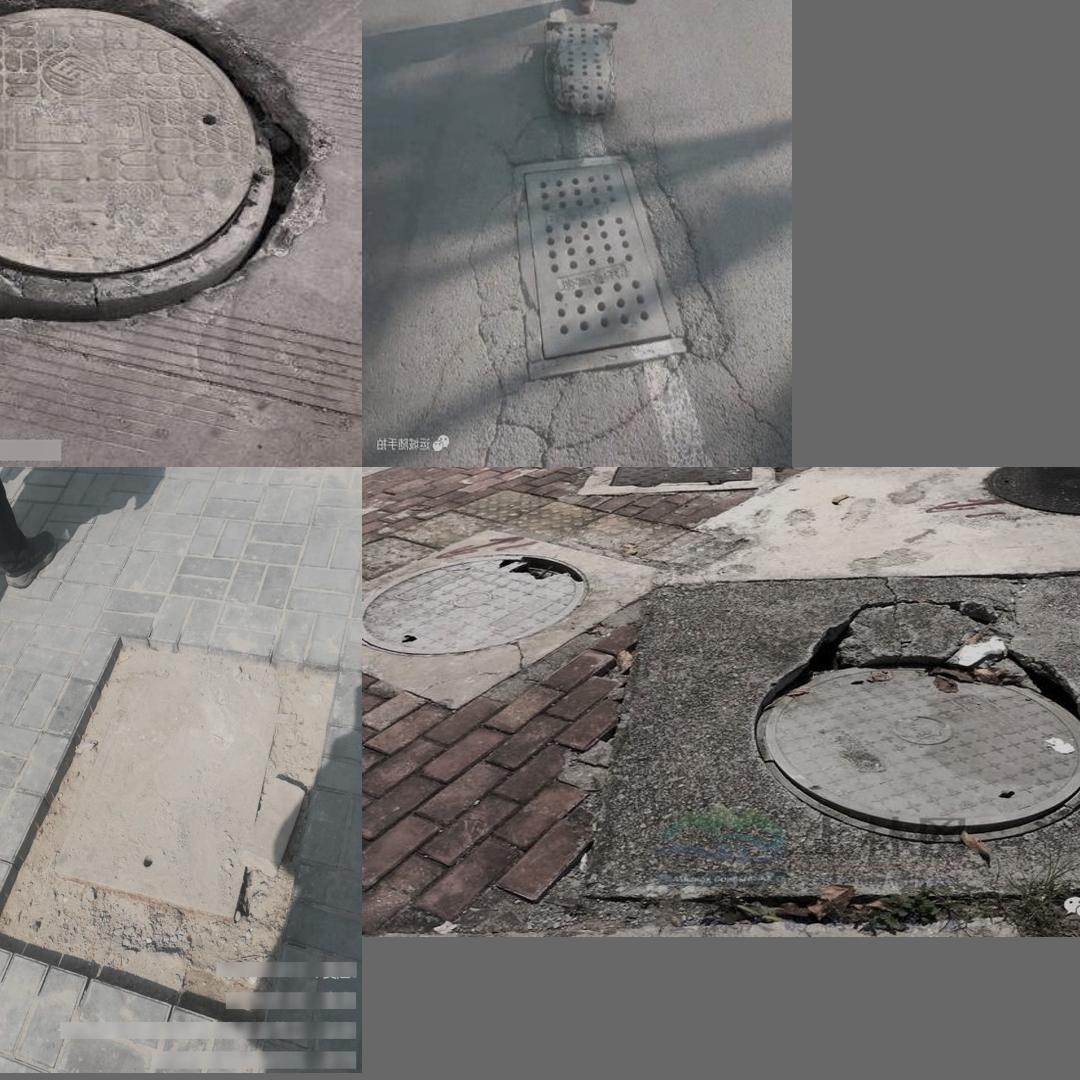circle: (571, 561, 1080, 900), (0, 651, 338, 978), (0, 0, 307, 329), (459, 127, 735, 442)
